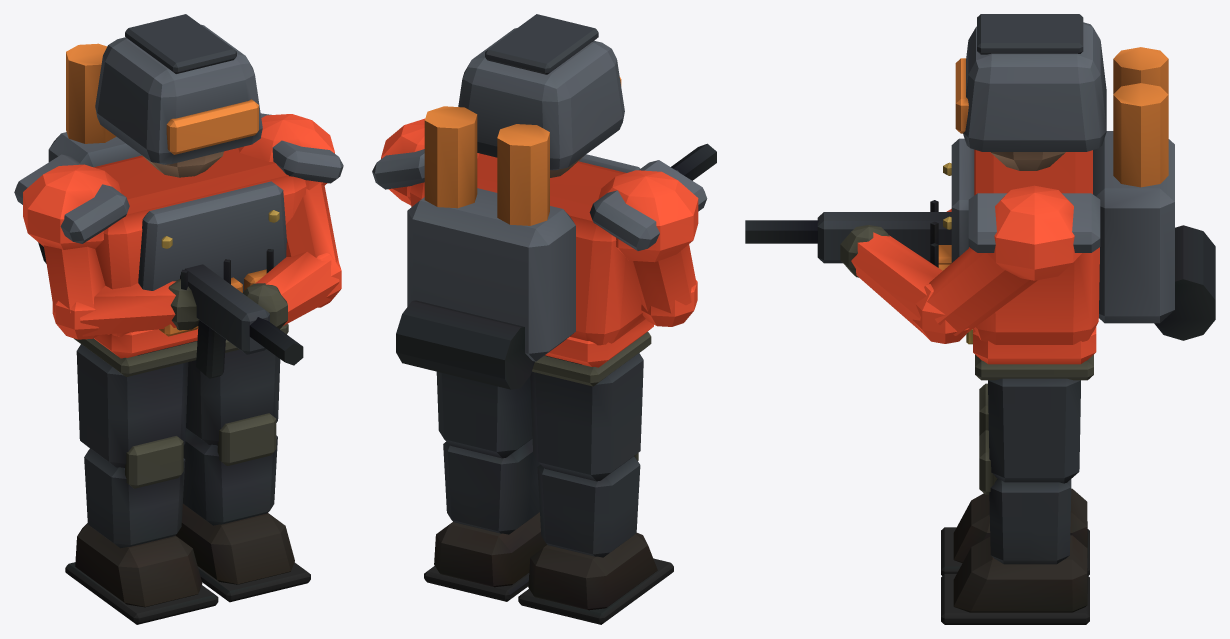
The model's file is sapper.glb.
The picture shows the model from 3 angles, left to right: view 1: azimuth 30°, elevation 25°; view 2: azimuth 150°, elevation 25°; view 3: azimuth 270°, elevation 25°; orthographic projection. The views are drawn at different scales.
Visible parts, largest first — view 1: geo_torso, geo_leg_right, geo_leg_left, geo_arm_right, geo_arm_left; view 2: geo_torso, geo_leg_right, geo_leg_left, geo_arm_right; view 3: geo_torso, geo_leg_left, geo_arm_left, geo_leg_right.
Part boxes in pixels (x1,y1,x2,y2): geo_torso: [14, 14, 343, 378]; geo_leg_right: [65, 344, 218, 624]; geo_leg_left: [175, 349, 310, 602]; geo_arm_right: [43, 245, 199, 339]; geo_arm_left: [243, 182, 341, 329]; geo_torso: [372, 14, 716, 389]; geo_leg_right: [518, 353, 673, 624]; geo_leg_left: [424, 371, 547, 601]; geo_arm_right: [632, 244, 697, 326]; geo_torso: [745, 14, 1215, 380]; geo_leg_left: [941, 378, 1089, 624]; geo_arm_left: [840, 225, 1037, 343]; geo_leg_right: [941, 383, 1089, 575].
Size of the model in its own units: 1.7 by 2.87 by 2.21.
